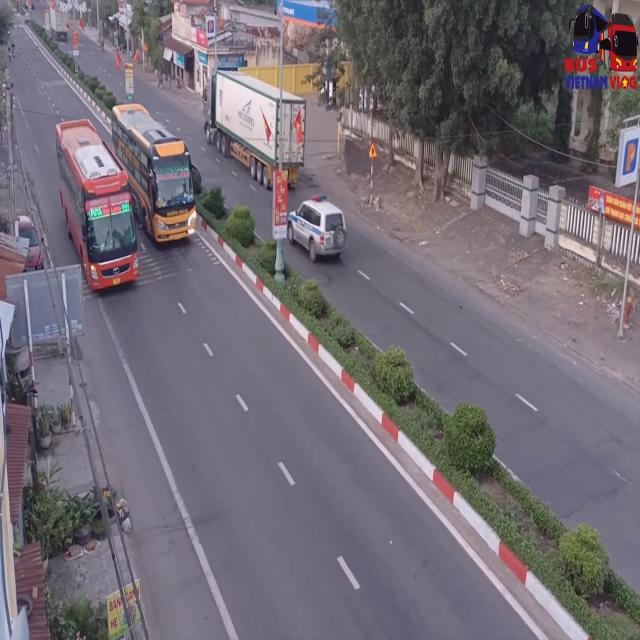bus: (57, 118, 139, 295), (106, 102, 199, 245)
car: (288, 195, 346, 263)
truck: (204, 71, 308, 193)
